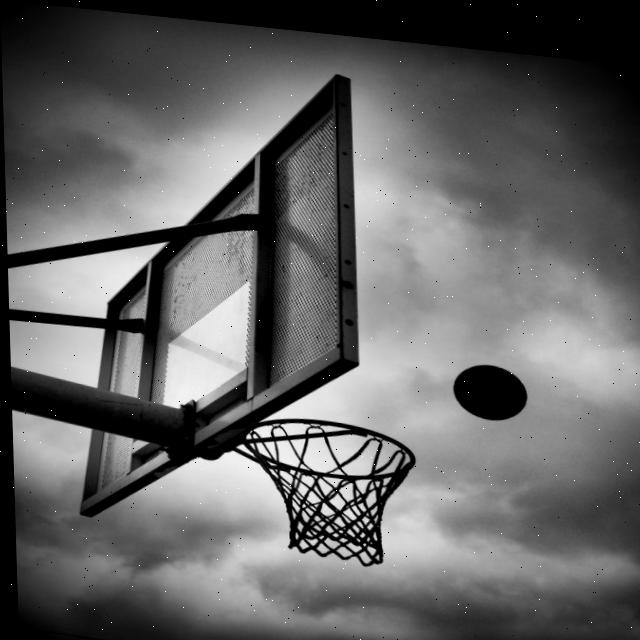hoop: (241, 408, 444, 572)
